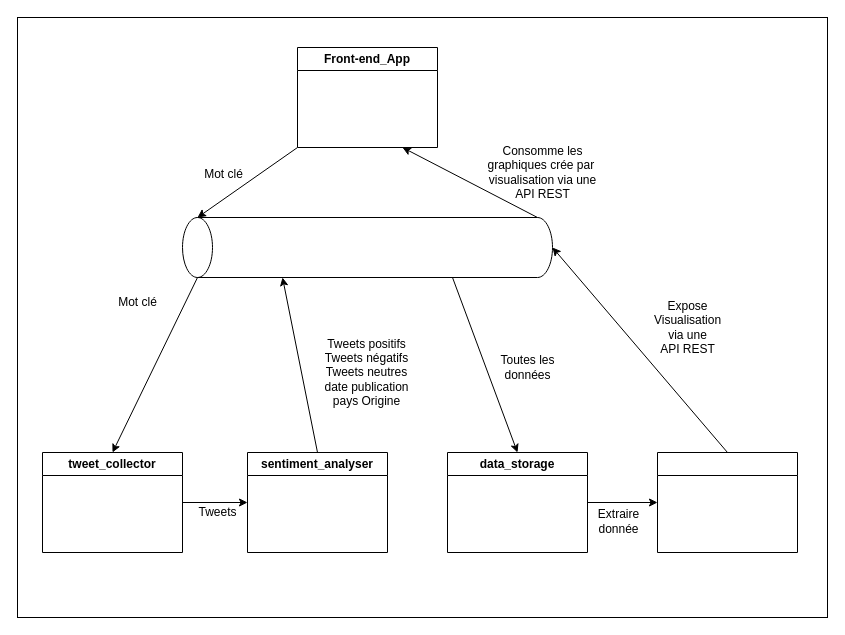
This 845x635 diagram has some shape labels left out. The centre of each missing label's shape, as x and y in pixels:
api_gateway: pixel 367 247
data_visualization: pixel 727 502
